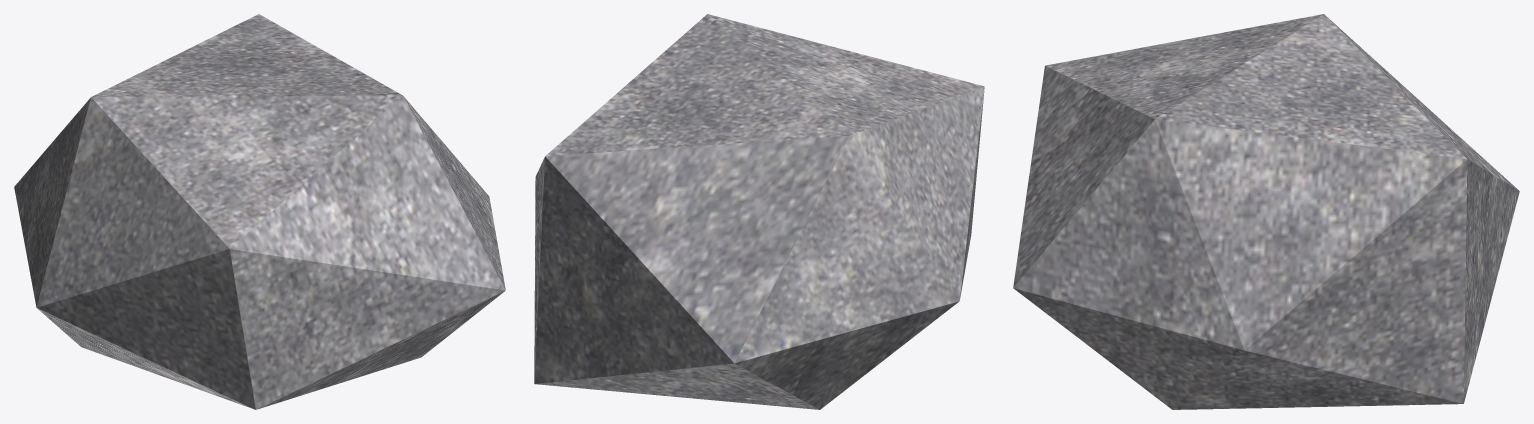
File: SharockFootLeft.obj
3 views of the same model, side by side, from view 1: azimuth 30°, elevation 25°; view 2: azimuth 150°, elevation 25°; view 3: azimuth 270°, elevation 25° (orthographic). The views are drawn at different scales.
Parts seen in each view (by area): view 1: Icosphere.002_Icosphere.001; view 2: Icosphere.002_Icosphere.001; view 3: Icosphere.002_Icosphere.001.
Boxes of the visible parts, <box> form: Icosphere.002_Icosphere.001: <box>14,14,505,409</box>; Icosphere.002_Icosphere.001: <box>534,14,984,409</box>; Icosphere.002_Icosphere.001: <box>1013,14,1519,409</box>.
Bounding box in the file's own units: 0.6416 × 0.3808 × 0.6304.
